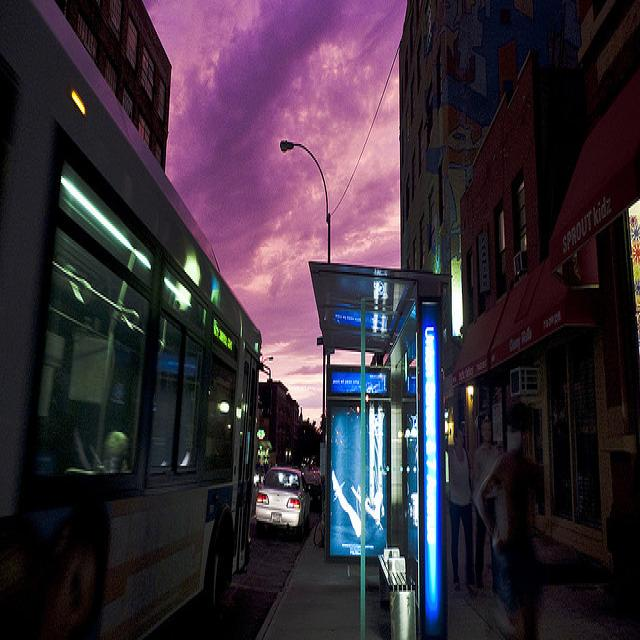Bus: (0, 186, 267, 566)
People: (494, 391, 551, 640), (470, 374, 510, 609), (440, 387, 471, 621)
car: (247, 446, 316, 555), (295, 419, 336, 542)
chair: (367, 522, 426, 640)
